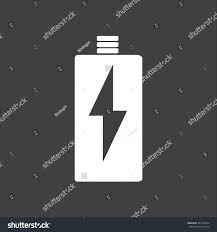charging sign: (53, 12, 171, 196)
